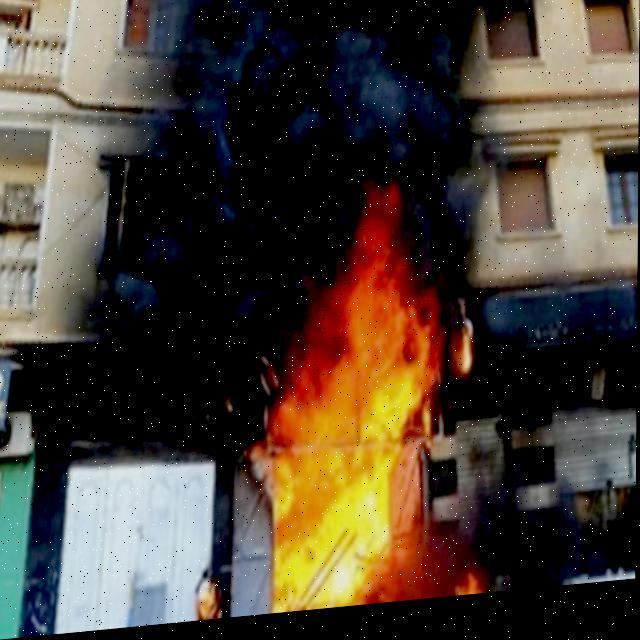Fire: (268, 195, 442, 615)
